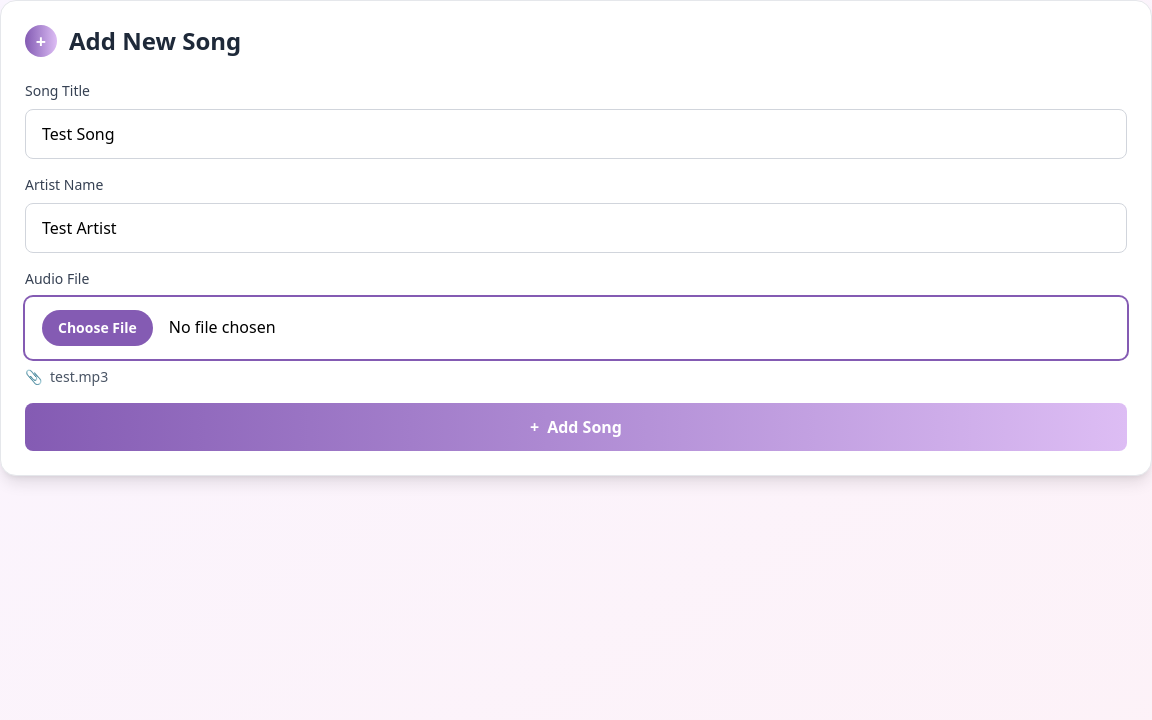
Test: AddSongForm › displays an error when uploading fails
Earlier steps of the test are not shown.
Step 1. Click the button "+ Add Song" → [576, 427], box [25,403,1127,451]
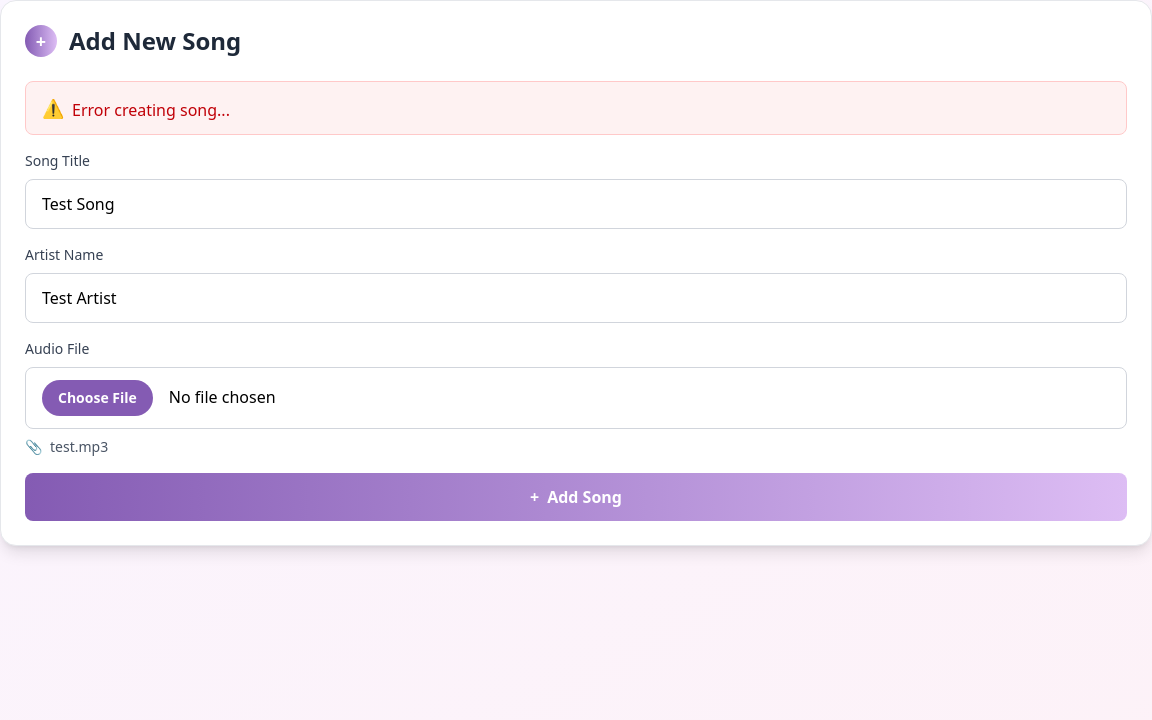
Expected: the button "+ Add Song" is enabled, [25,473,1127,521]
Now the text "Error creating song..." is shown, box [72,98,230,122]
